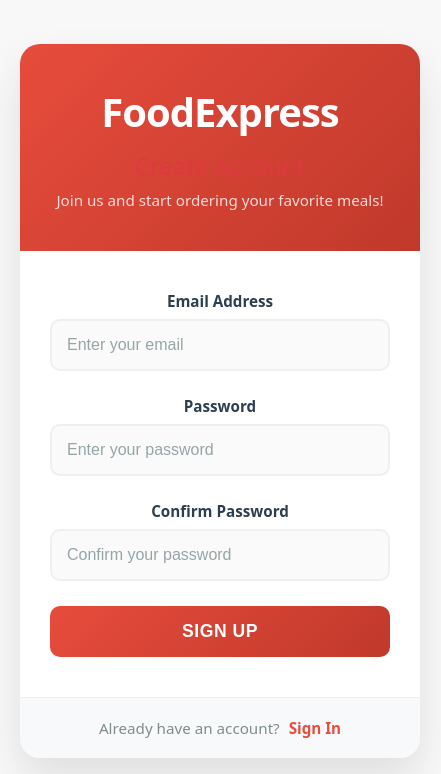
Test case: Register Component › successful registration redirects to login
This screenshot has width=441, height=774.
Type "newuser@example.com" into the field labelled "Email Address" at (220, 345), box [50,319,390,371]
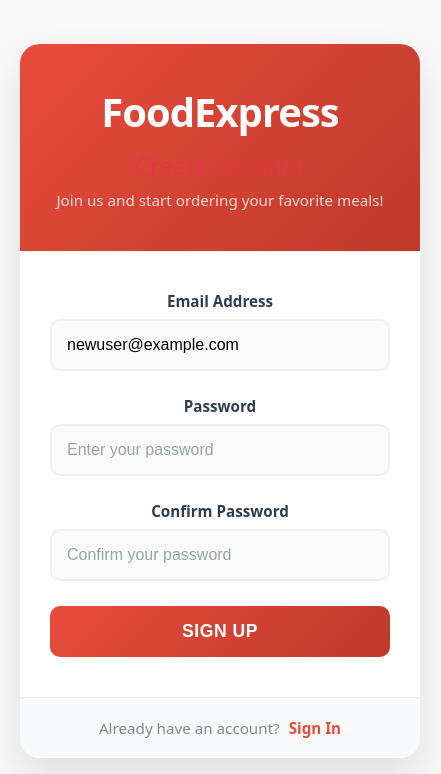
Type "password123" into the password field labelled "Password" at (220, 450), box [50,424,390,476]
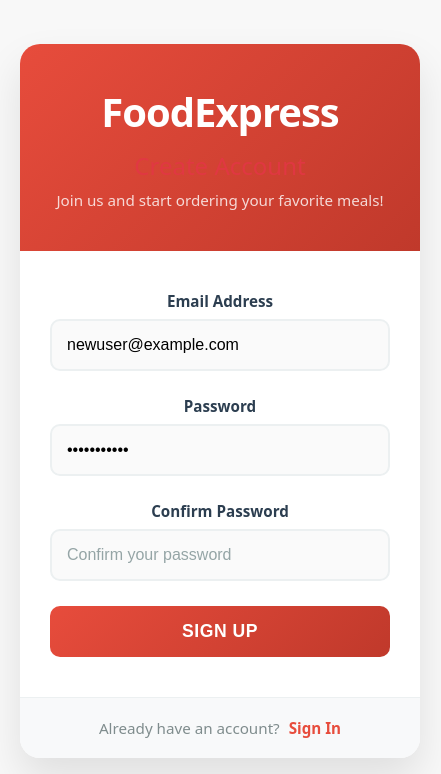
Type "password123" into the password field labelled "Confirm Password" at (220, 555), box [50,529,390,581]
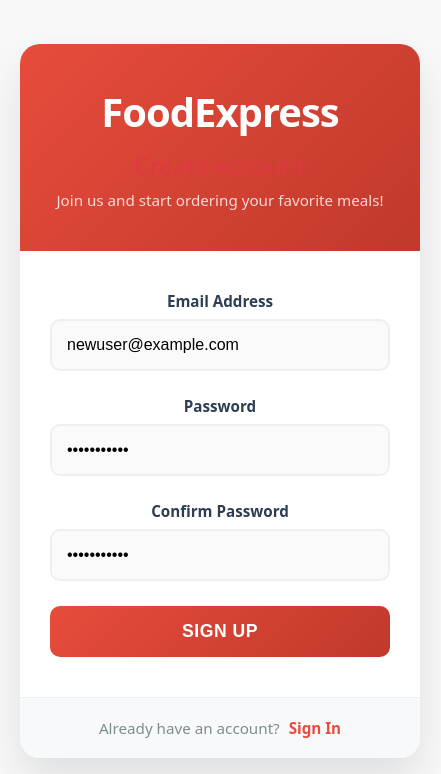
Click the button "Sign Up" at (220, 632), box [50,606,390,657]
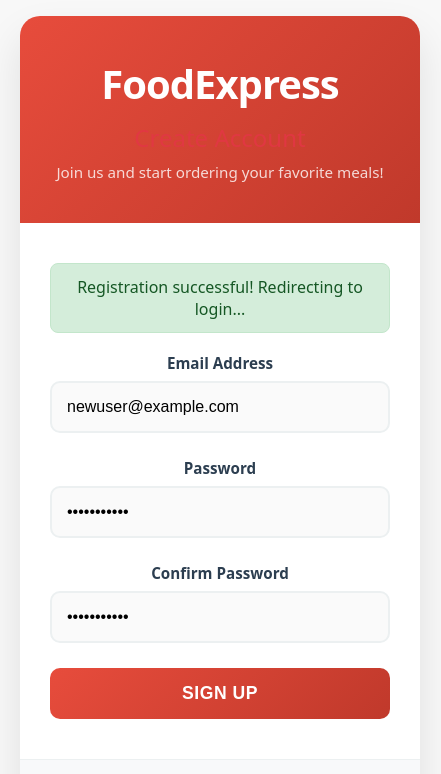
Expected: the text "Registration successful! Redirecting to login..." is shown, [50,263,390,333]
